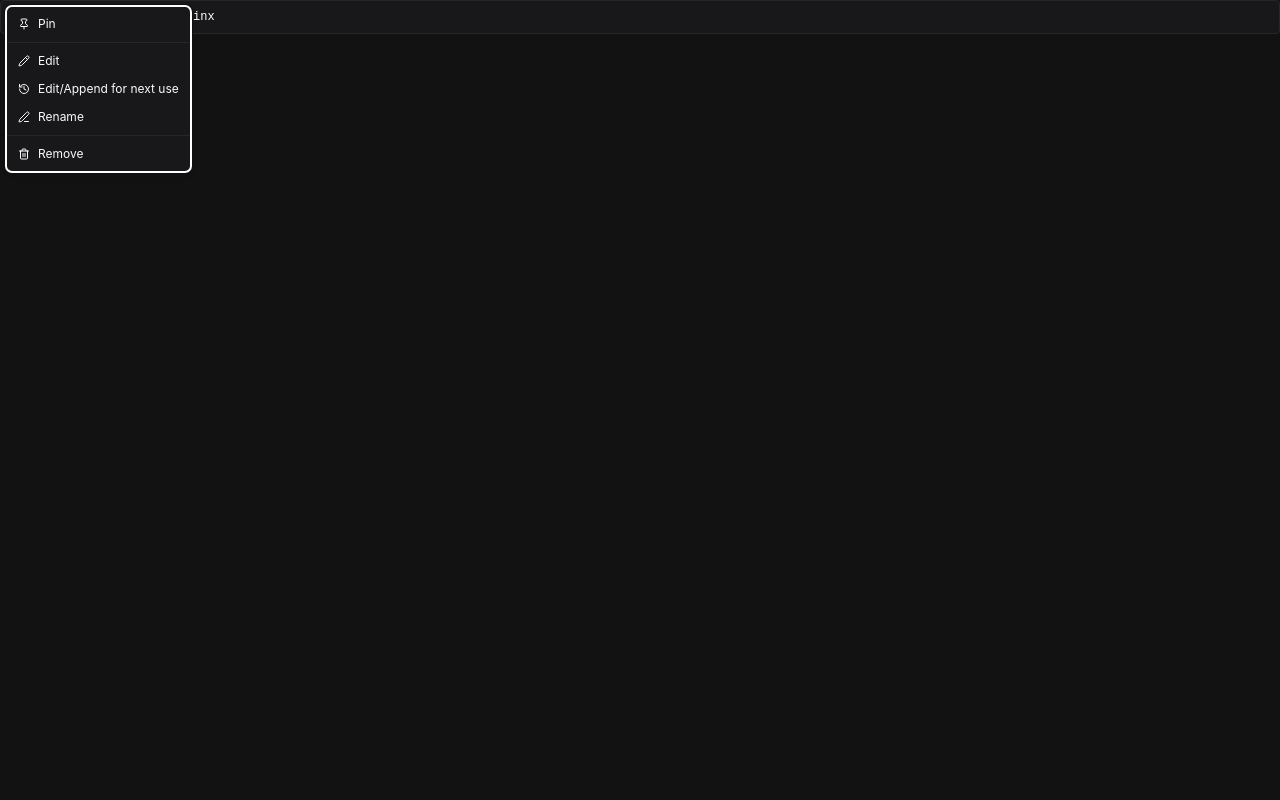
it: CommandCard › clicking Rename in the context menu opens a rename dialog
The image size is (1280, 800).
Click the menu item "Rename": x=51, y=116 [18, 109, 84, 124]
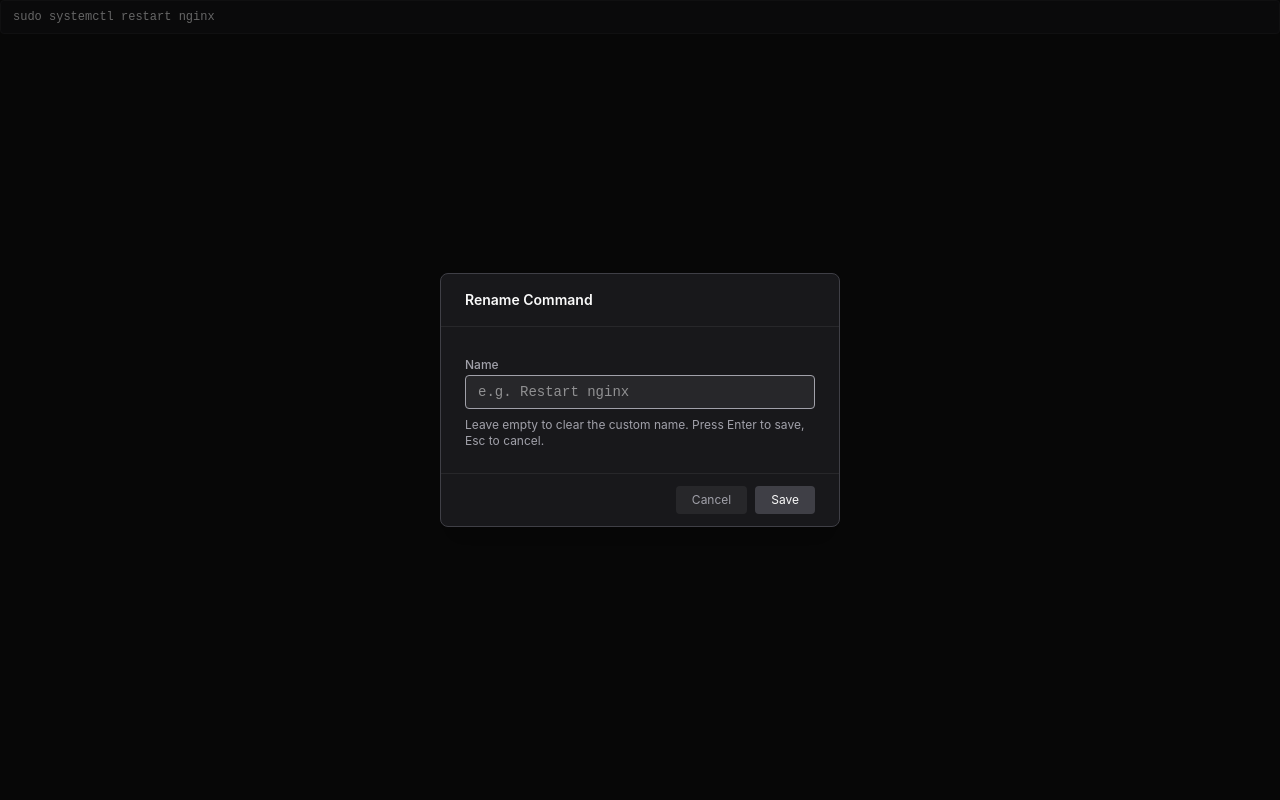
Now the heading "Rename Command" is shown, box [441, 274, 839, 327]
Now the field with placeholder "e.g. Restart nginx" is shown, box [465, 375, 815, 409]
